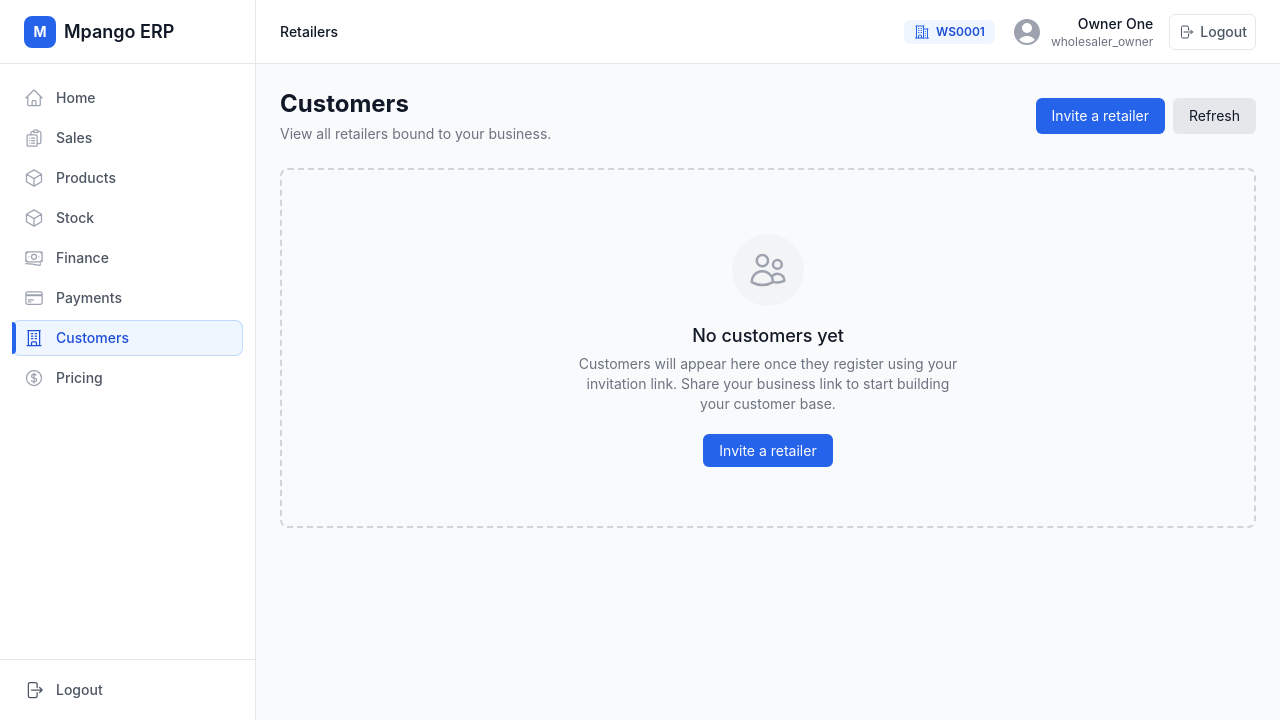
Test case: DC-12R1-MVP-L1-J1-H2-A: wholesaler invitation authoring › T1: session with invitations:create sees the Customers CTA and reaches the authoring page
Click the 1st link "Invite a retailer": [1100, 116] box 1036,98 -> 1165,134
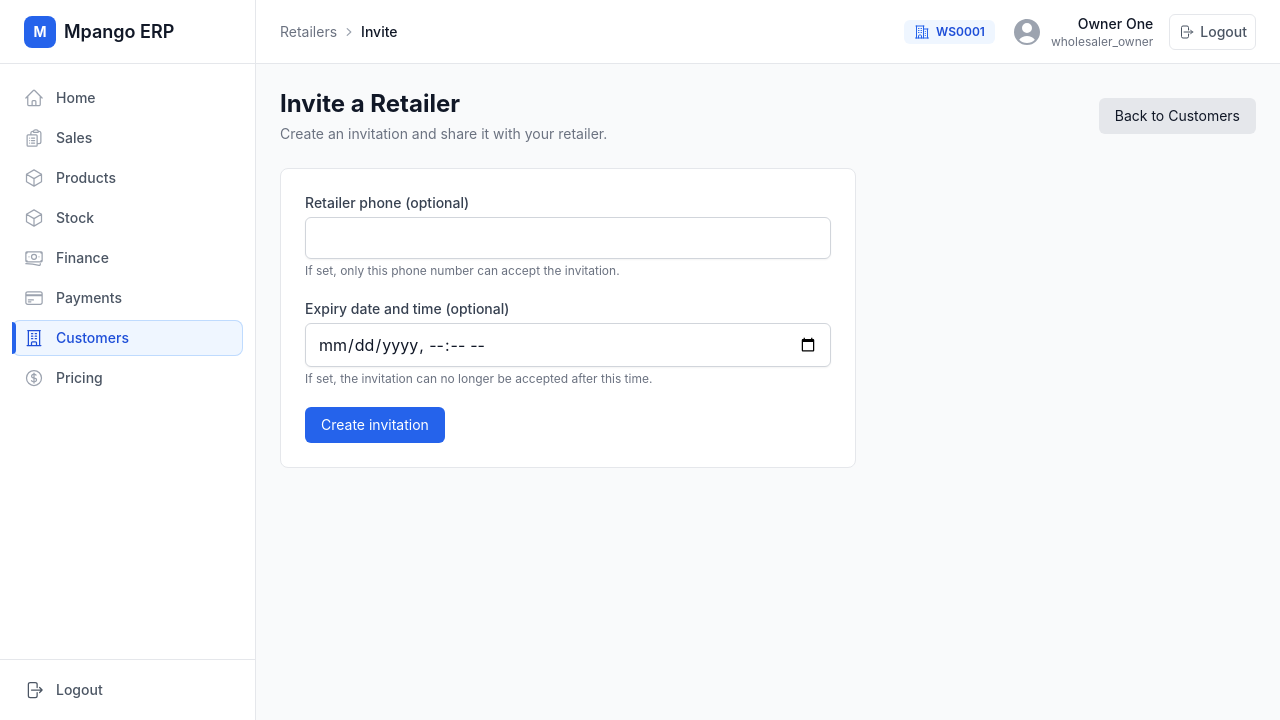
Result: the button "Create invitation" is shown at 305,407 -> 445,443
Result: the field labelled "Retailer phone (optional)" is shown at 305,217 -> 831,259
